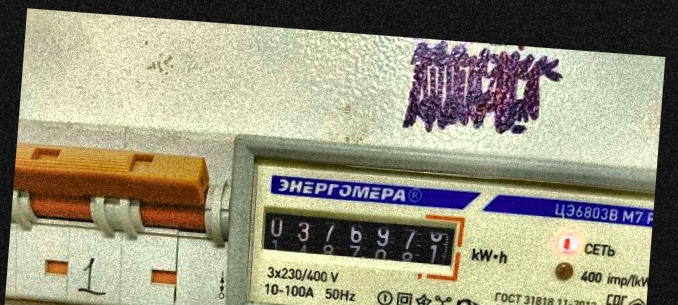0: (267, 214, 284, 237)
1: (427, 241, 438, 264)
3: (295, 219, 310, 241)
6: (347, 219, 364, 243)
7: (321, 218, 337, 242), (401, 224, 417, 248)
9: (374, 223, 390, 246)
screen: (249, 196, 468, 284)
